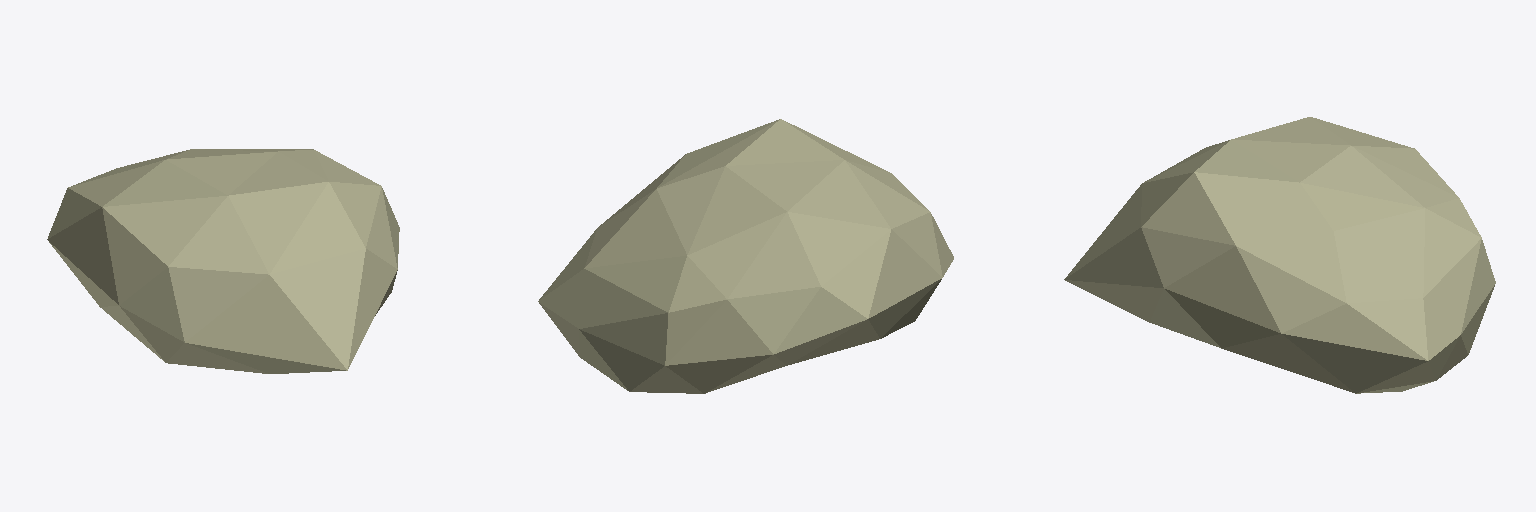
3 renders of one model, left to right at view 1: azimuth 30°, elevation 25°; view 2: azimuth 150°, elevation 25°; view 3: azimuth 270°, elevation 25°, orthographic.
Parts seen in each view (by area): view 1: Icosphere; view 2: Icosphere; view 3: Icosphere.
Boxes of the visible parts, x1=… form: Icosphere: x1=47, y1=149, x2=399, y2=373; Icosphere: x1=538, y1=119, x2=953, y2=393; Icosphere: x1=1064, y1=117, x2=1495, y2=393.
Bounding box in the file's own units: 1.33 × 0.8051 × 1.6.
1 materials, 1 textured.